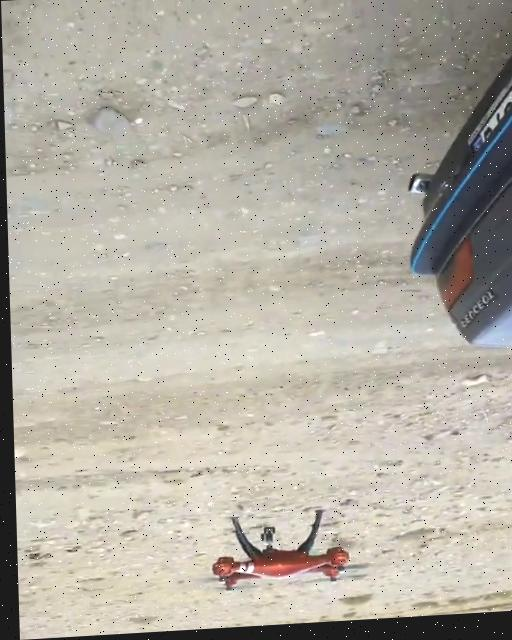drone: (179, 508, 371, 601)
